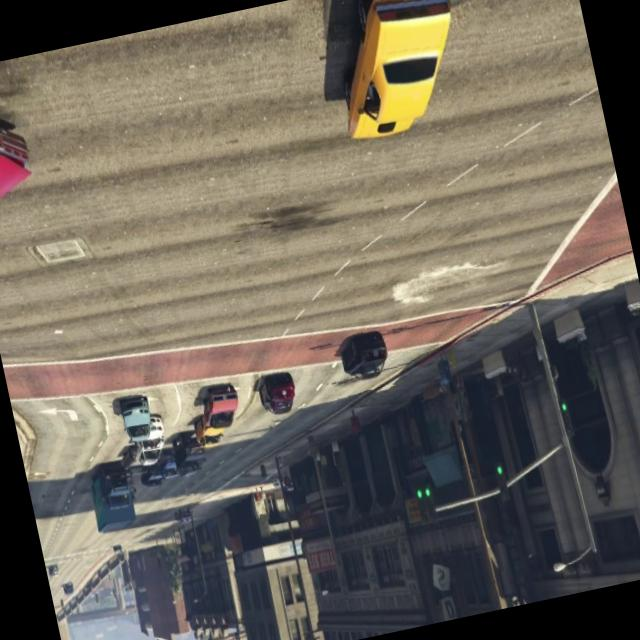Green-Signal: (404, 462, 446, 535), (550, 378, 584, 448), (487, 448, 517, 512)
